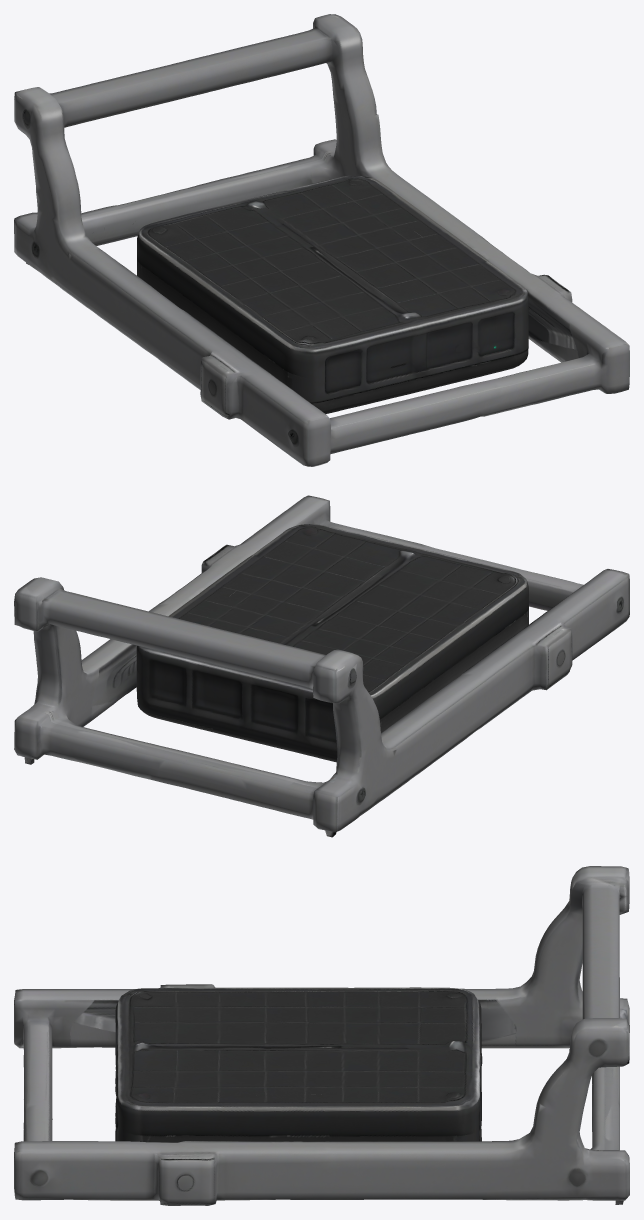
Rendered from Metal_Frame_with_Blac_0417020157_texture.glb.
3 renders of one model, top to bottom at view 1: azimuth 30°, elevation 25°; view 2: azimuth 150°, elevation 25°; view 3: azimuth 270°, elevation 25°, orthographic. The views are drawn at different scales.
Bounding box in the file's own units: 1.37 × 0.6481 × 2.
Materials: 1 (1 with a texture image).
